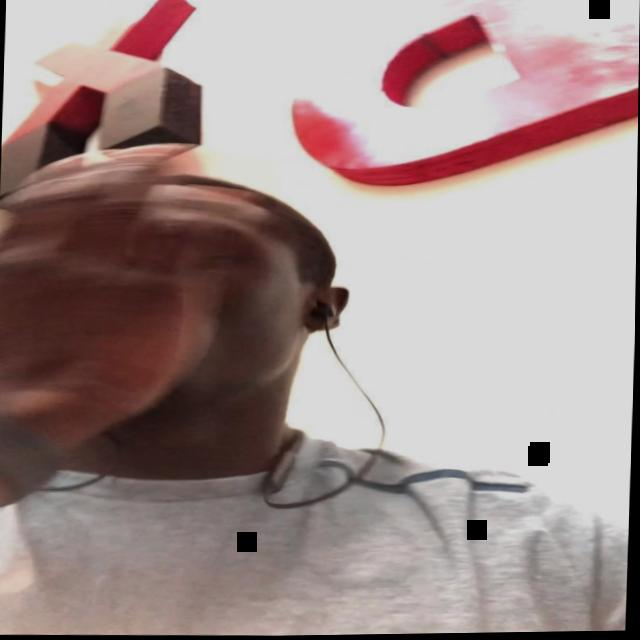NO-Mask: (0, 192, 332, 438)
